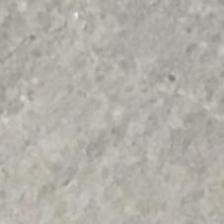Non_Crack: (11, 25, 224, 218)
